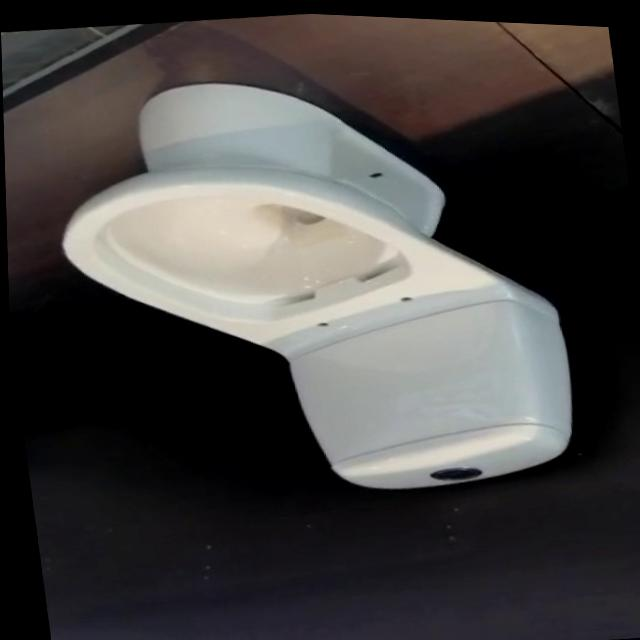toilet: (39, 41, 585, 525)
